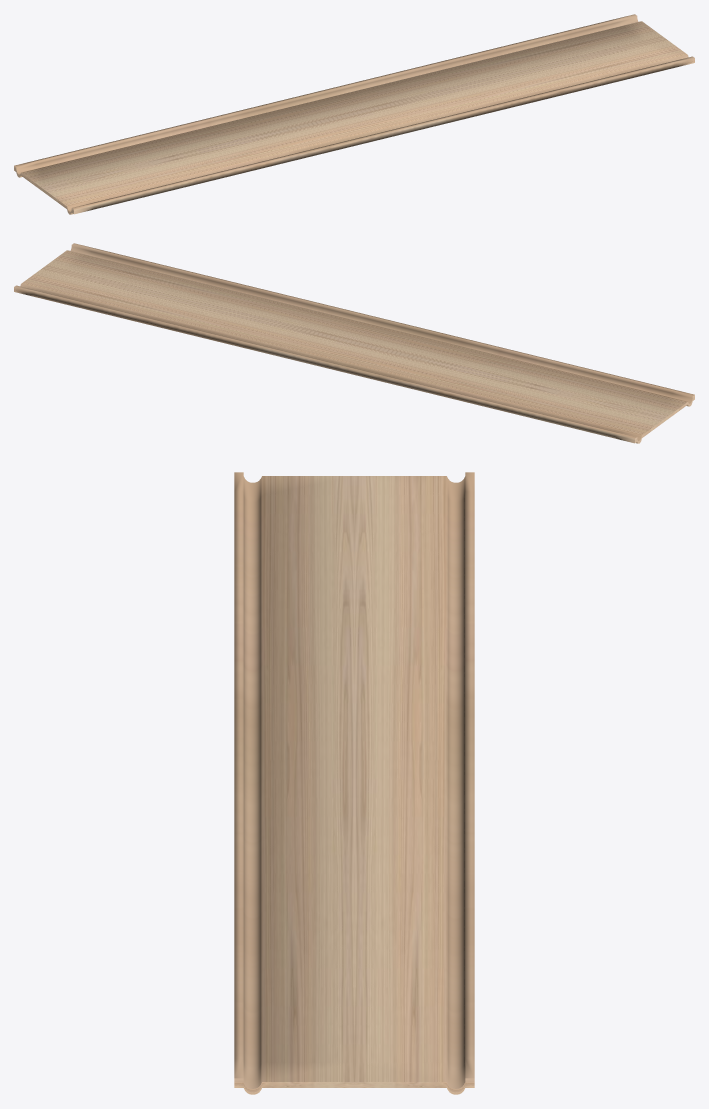
The model's file is bowling.obj.
3 views of the same model, one above another, from view 1: azimuth 30°, elevation 25°; view 2: azimuth 150°, elevation 25°; view 3: azimuth 270°, elevation 25° (orthographic). The views are drawn at different scales.
Parts seen in each view (by area): view 1: Cube; view 2: Cube; view 3: Cube.
Boxes of the visible parts, x1,y1,x2,y2 form: Cube: (14,14,694,214); Cube: (14,243,694,443); Cube: (234,472,474,1094).
Bounding box in the file's own units: 15.54 × 0.1971 × 2.6.
